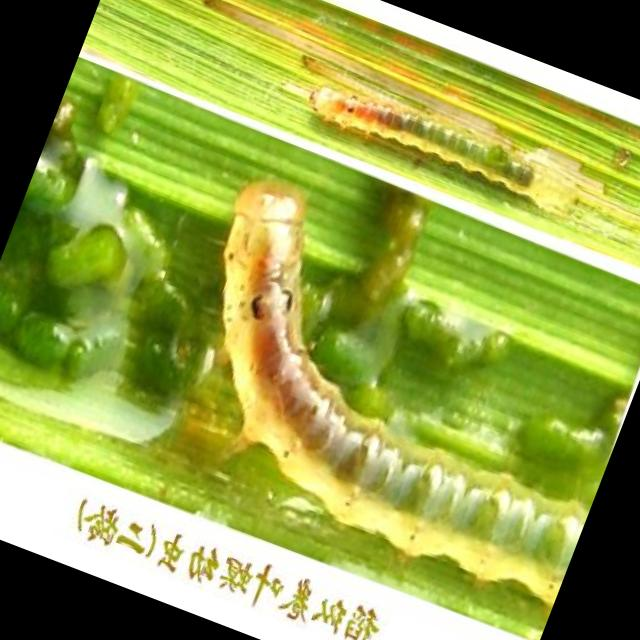leaf-folder: (124, 154, 640, 616), (284, 58, 620, 250)
